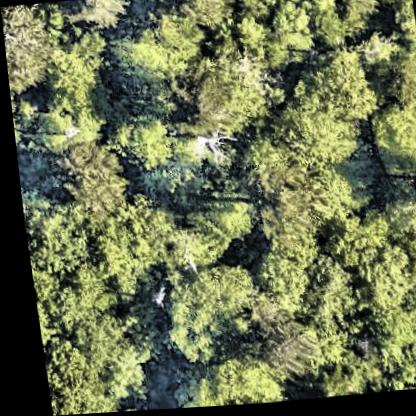tree-top: (152, 265, 260, 367), (183, 53, 288, 133), (266, 100, 362, 180), (49, 137, 139, 221), (110, 12, 198, 97), (237, 162, 327, 245), (84, 217, 161, 308), (163, 354, 277, 410), (297, 48, 379, 125), (34, 338, 110, 416), (249, 239, 319, 322), (26, 267, 106, 339), (235, 312, 313, 381), (151, 213, 231, 280), (0, 3, 55, 95), (17, 194, 80, 274), (325, 212, 391, 285), (38, 34, 108, 102), (103, 106, 175, 171), (195, 172, 256, 245), (297, 268, 360, 337), (265, 0, 321, 67), (364, 111, 416, 180), (381, 200, 416, 298), (63, 318, 130, 368), (305, 360, 386, 401), (350, 251, 403, 311), (182, 0, 243, 40), (362, 308, 416, 352), (96, 348, 143, 398), (71, 0, 135, 32), (355, 36, 397, 70), (294, 0, 347, 23)
